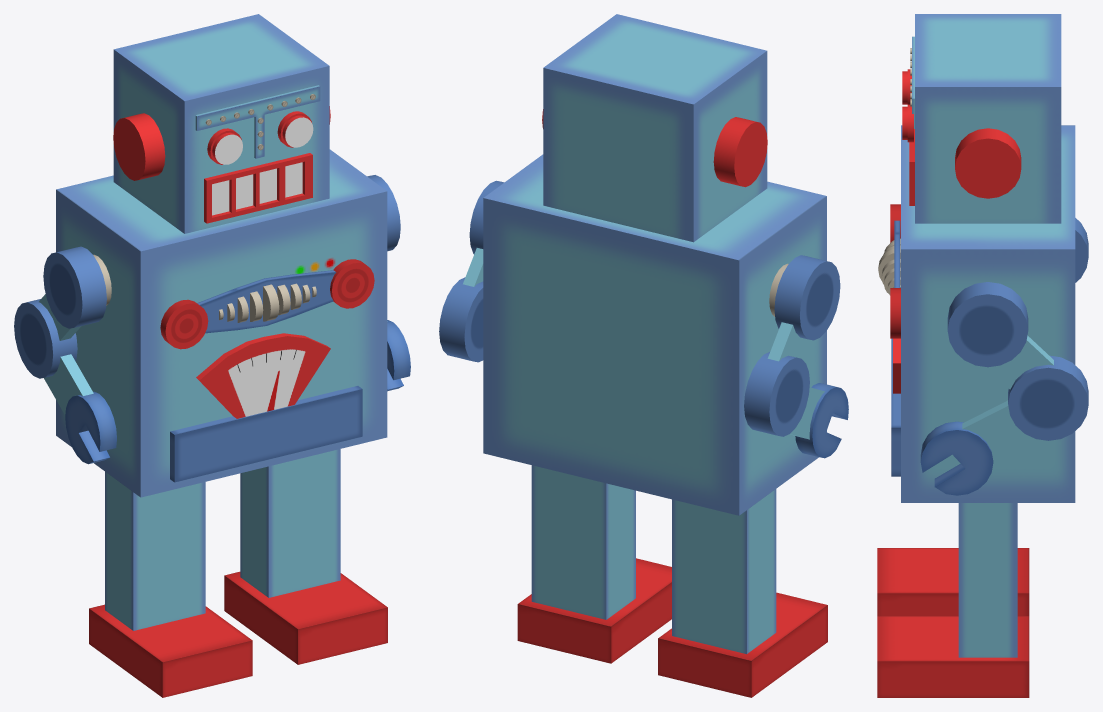
File: Robot.fbx
3 views of the same model, side by side, from view 1: azimuth 30°, elevation 25°; view 2: azimuth 150°, elevation 25°; view 3: azimuth 270°, elevation 25° (orthographic). The views are drawn at different scales.
Parts seen in each view (by area): view 1: pCylinder153; view 2: pCylinder153; view 3: pCylinder153.
Boxes of the visible parts, bbox=[...] form: pCylinder153: bbox=[14, 14, 410, 697]; pCylinder153: bbox=[439, 14, 848, 697]; pCylinder153: bbox=[877, 14, 1088, 697].
Size of the model in its own units: 3.07 by 5.28 by 1.71.
Materials: 1 (1 with a texture image).
